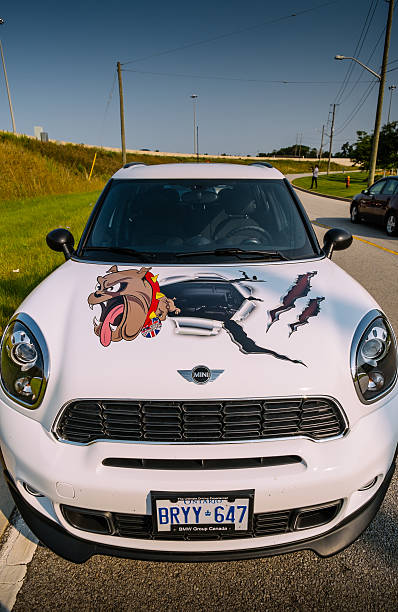licence: (152, 486, 254, 538)
